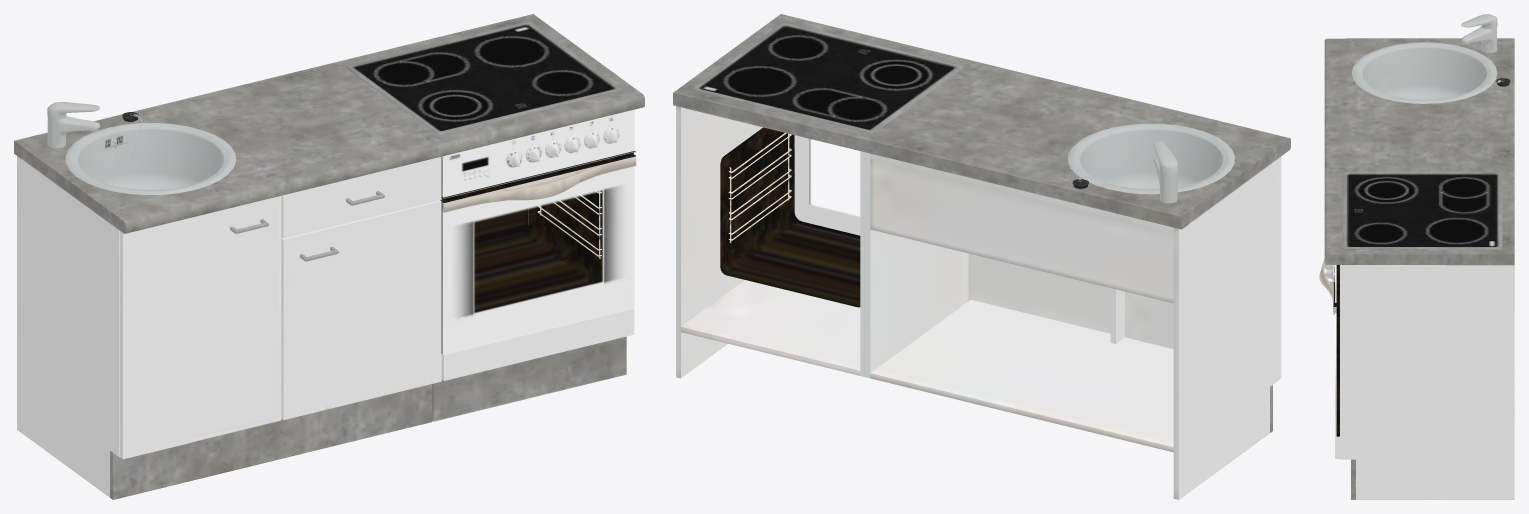
Rendered from OBJ-kitchen_unit.glb.
The picture shows the model from 3 angles, left to right: view 1: azimuth 30°, elevation 25°; view 2: azimuth 150°, elevation 25°; view 3: azimuth 270°, elevation 25°; orthographic projection. The views are drawn at different scales.
Visible parts, largest first — view 1: #CAB0001_Kitchen_Wood_White_86x160x60; view 2: #CAB0001_Kitchen_Wood_White_86x160x60; view 3: #CAB0001_Kitchen_Wood_White_86x160x60.
Boxes of the visible parts, left/top/right/bottom form: #CAB0001_Kitchen_Wood_White_86x160x60: left=14, top=14, right=644, bottom=499; #CAB0001_Kitchen_Wood_White_86x160x60: left=673, top=14, right=1290, bottom=499; #CAB0001_Kitchen_Wood_White_86x160x60: left=1319, top=14, right=1514, bottom=499.
Bounding box in the file's own units: 1.61 × 0.9824 × 0.616.
1 material, 1 textured.
